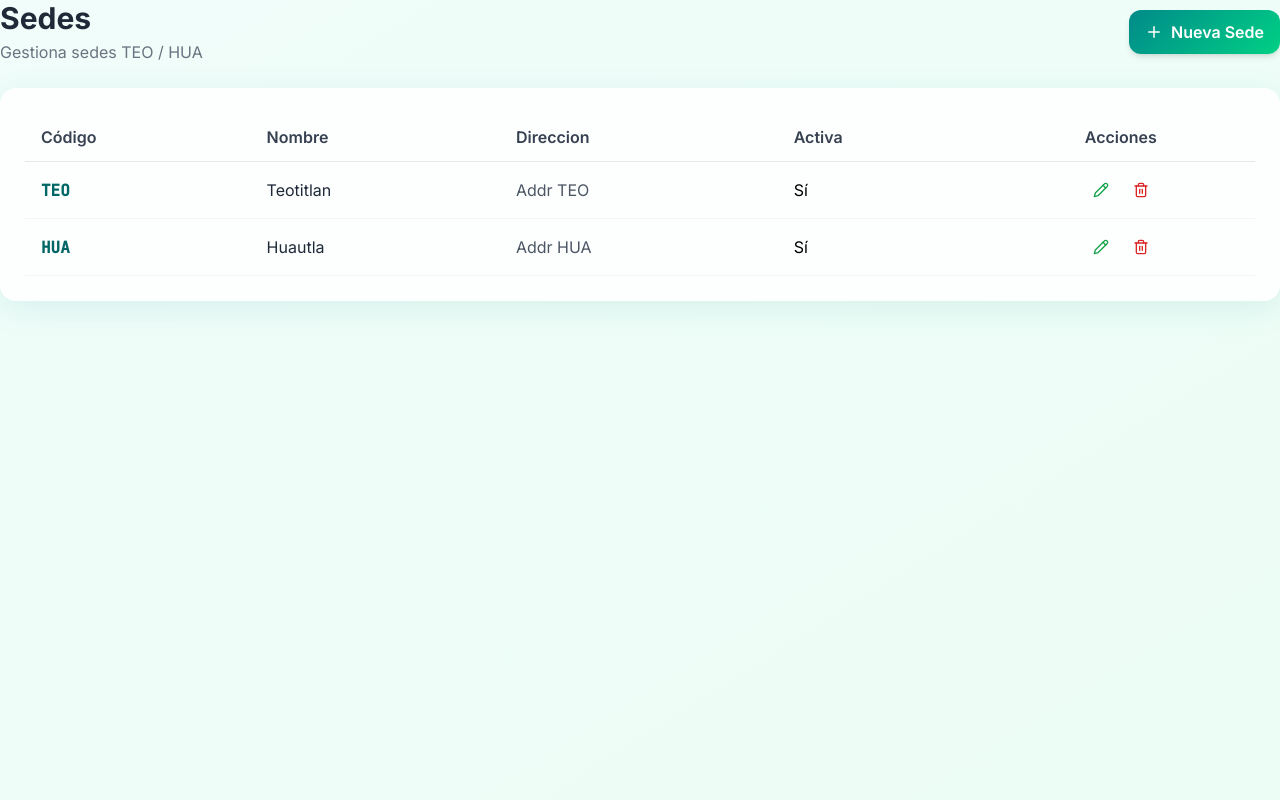
Test: Sedes CRUD › tiene boton Nuevo y abre modal crear
Click the button "Nueva Sede": (1205, 32) [1129, 10, 1279, 54]
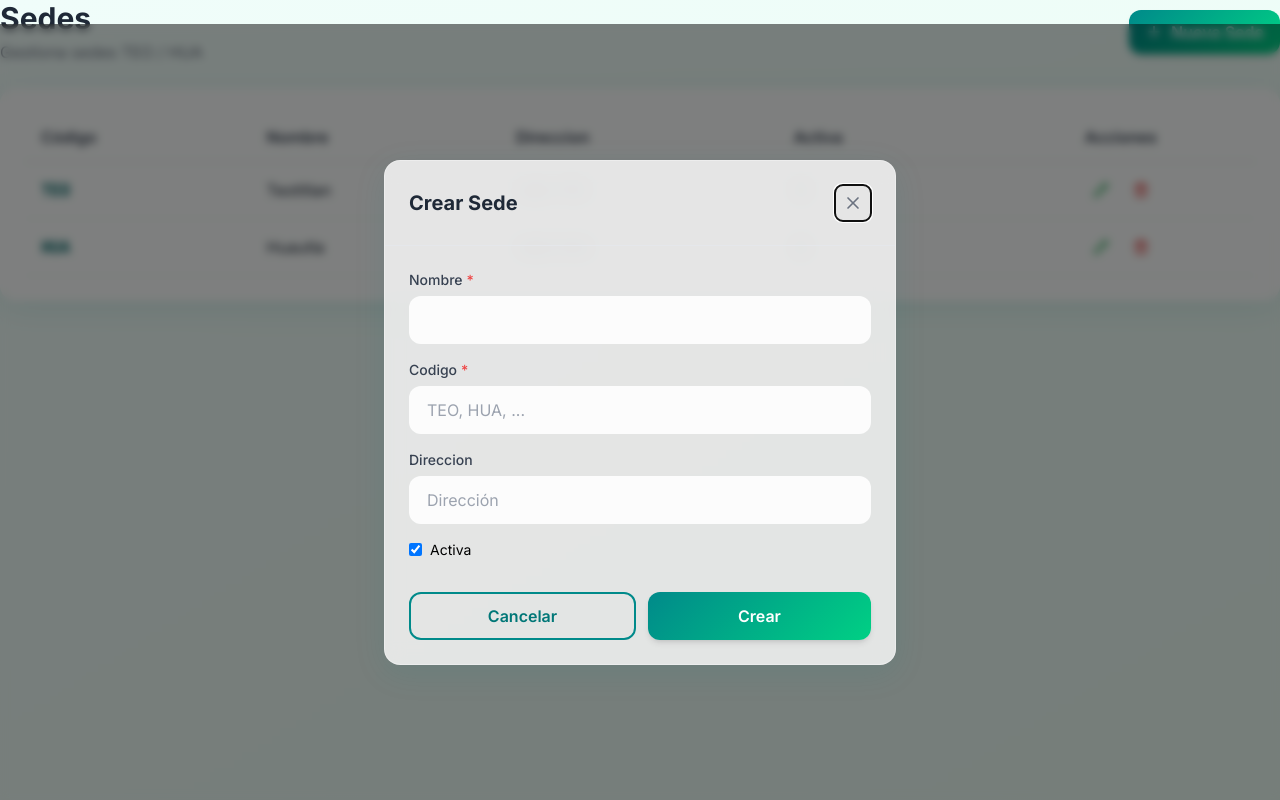
Now the heading "Crear Sede" is shown, box [409, 188, 518, 216]
